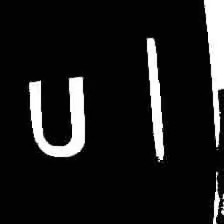LTR_U: (20, 70, 97, 162)
